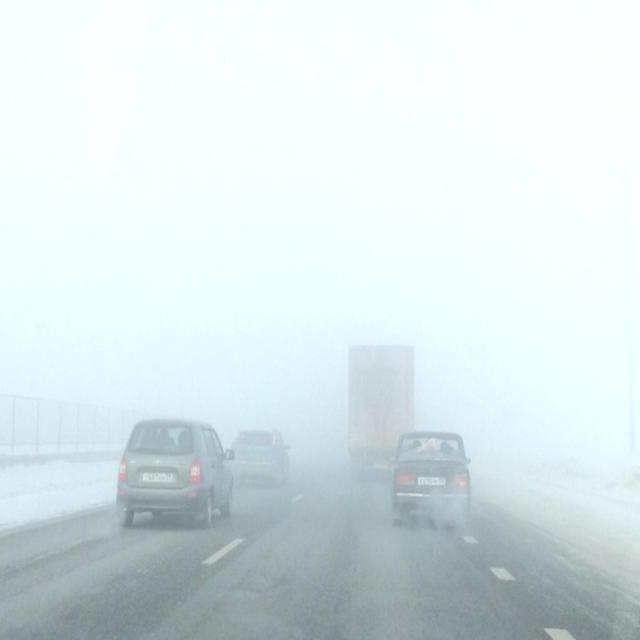Car: (102, 409, 225, 526), (393, 412, 469, 528), (225, 407, 292, 493)
Truck: (345, 336, 423, 472)
